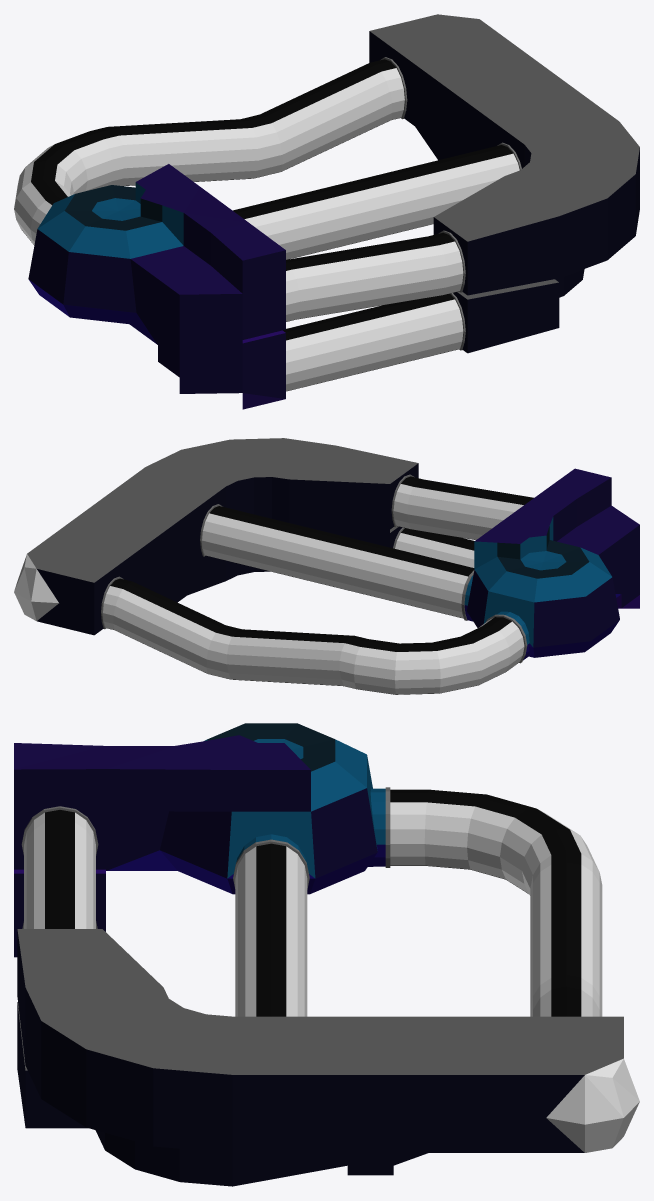
The model's file is Map.fbx.
The picture shows the model from 3 angles, top to bottom: view 1: azimuth 30°, elevation 25°; view 2: azimuth 150°, elevation 25°; view 3: azimuth 270°, elevation 25°; orthographic projection. The views are drawn at different scales.
Visible parts, largest first — view 1: Underwater, Glass; view 2: Underwater, Glass; view 3: Underwater, Glass.
Part boxes in pixels (box(x1,y1,x2,y2)): Underwater: box(22, 14, 639, 409); Glass: box(14, 68, 519, 391); Underwater: box(27, 438, 639, 694); Glass: box(14, 484, 524, 694); Underwater: box(14, 723, 623, 1186); Glass: box(24, 802, 639, 1152).
Size of the model in its own units: 5400 by 1359 by 4080.
